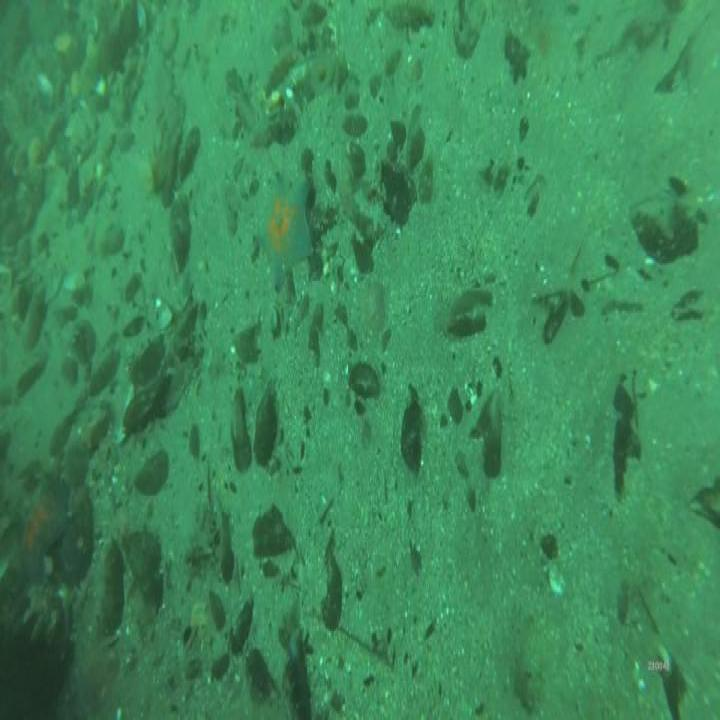holothurian: (258, 169, 310, 281), (14, 484, 69, 580)
